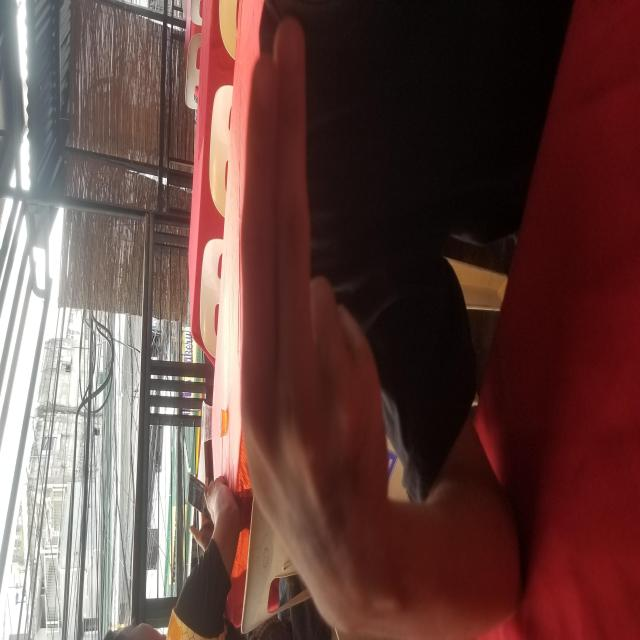H: (14, 238, 628, 388)
